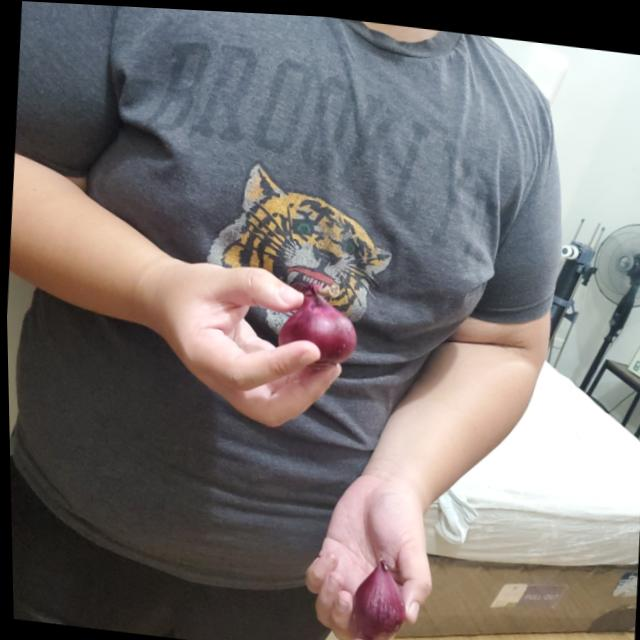onion: (277, 279, 359, 361), (348, 554, 404, 638)
